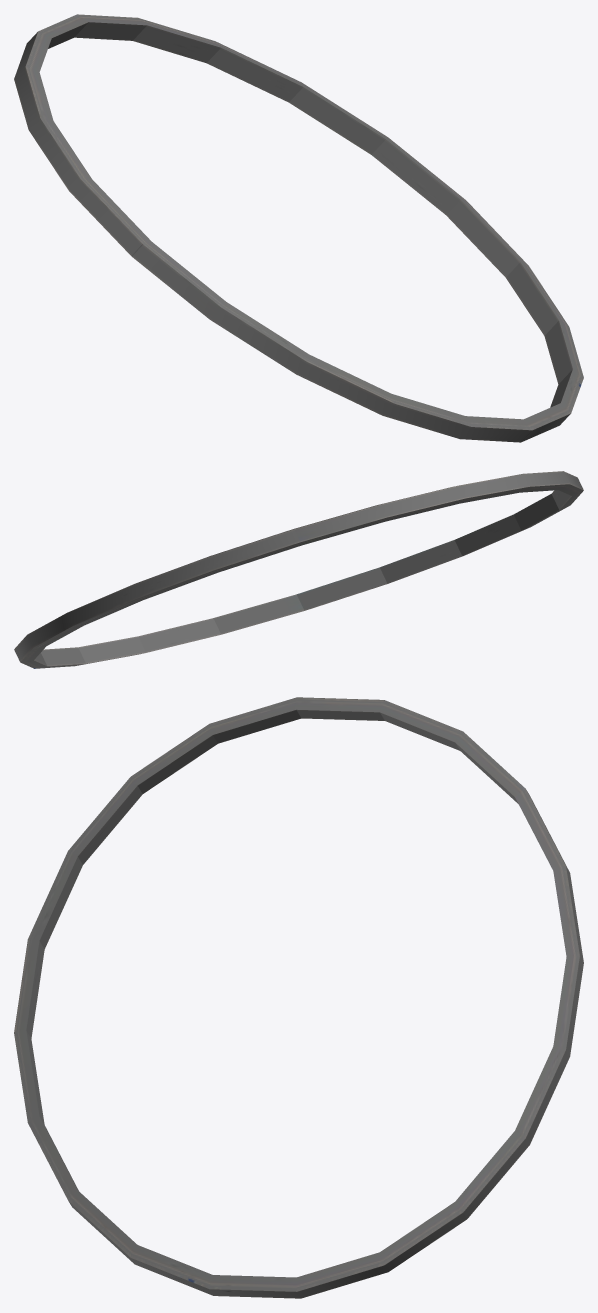
Rendered from celestialPrism_innerRing004.glb.
The picture shows the model from 3 angles, top to bottom: view 1: azimuth 30°, elevation 25°; view 2: azimuth 150°, elevation 25°; view 3: azimuth 270°, elevation 25°; orthographic projection. The views are drawn at different scales.
Parts seen in each view (by area): view 1: polySurface23.002; view 2: polySurface23.002; view 3: polySurface23.002.
Boxes of the visible parts, x1,y1,x2,y2 form: polySurface23.002: [14, 14, 583, 442]; polySurface23.002: [14, 471, 583, 668]; polySurface23.002: [14, 697, 583, 1298].
Size of the model in its own units: 0.5507 by 0.3597 by 0.5.
Materials: 1 (1 with a texture image).
